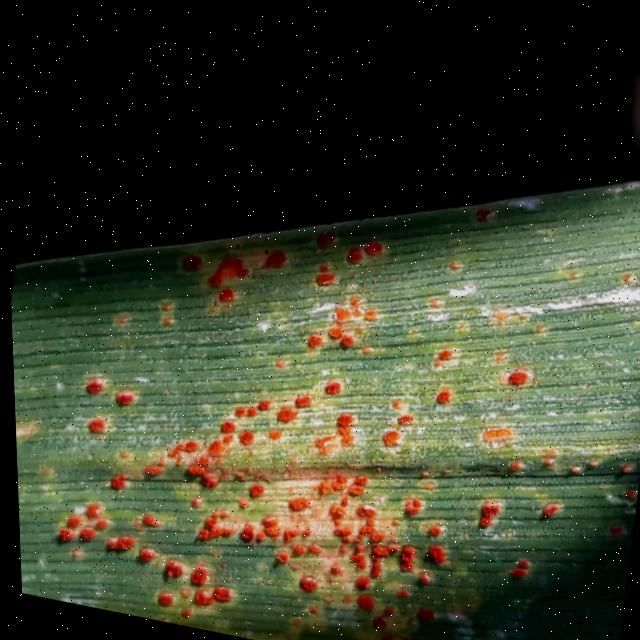orang_rust: (1, 29, 640, 640)
